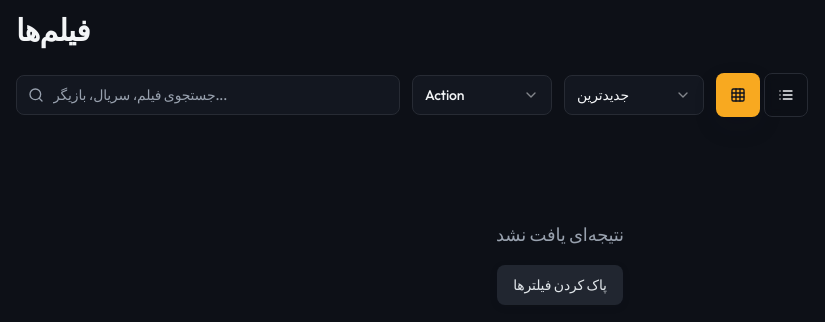
Test: Movies browse a11y and empty state › offers clear filters when no results and filters are active
Click the button with test id "movies-clear-filters". click: (560, 285)
box: x1=497 y1=265 x2=623 y2=305
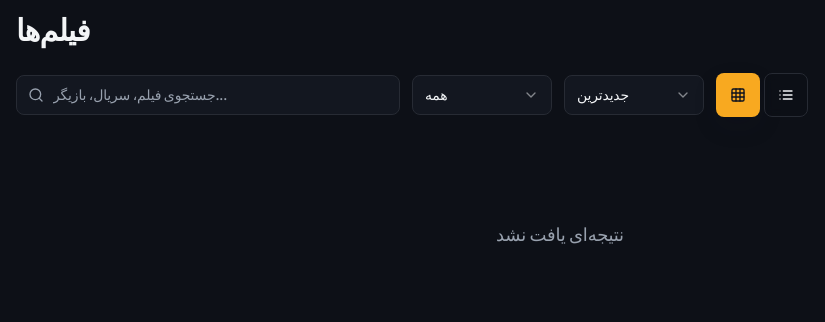
Expected: the button with test id "movies-clear-filters" is gone
